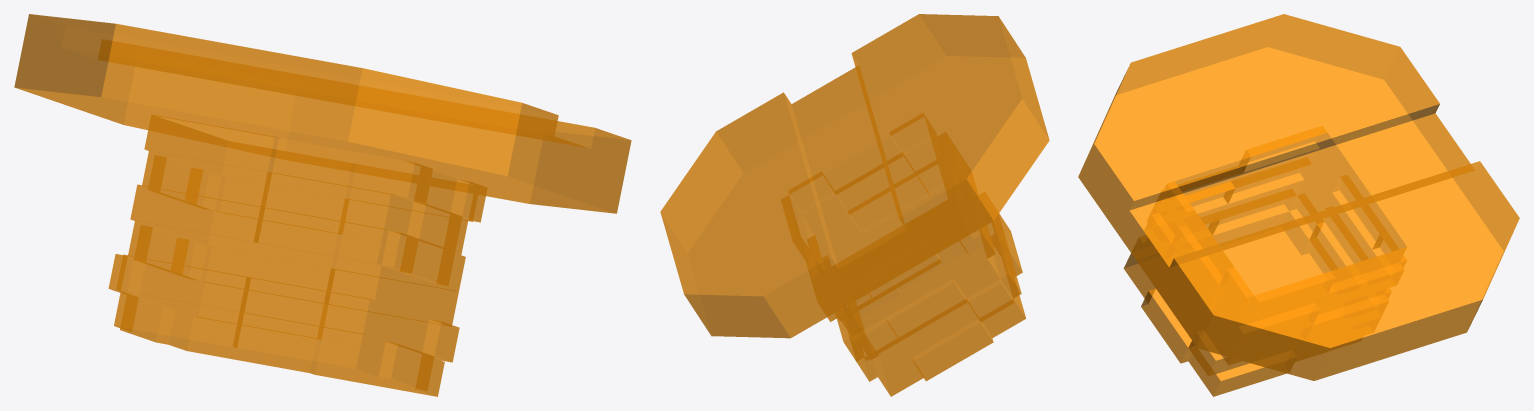
Rendered from oBoltAnim.fbx.
3 renders of one model, left to right at view 1: azimuth 30°, elevation 25°; view 2: azimuth 150°, elevation 25°; view 3: azimuth 270°, elevation 25°, orthographic. The views are drawn at different scales.
Parts seen in each view (by area): view 1: Cube; view 2: Cube; view 3: Cube.
Part boxes in pixels (x1,y1,x2,y2): Cube: [14, 14, 631, 396]; Cube: [660, 14, 1049, 396]; Cube: [1078, 14, 1519, 396].
Size of the model in its own units: 53.61 by 41.51 by 57.68.
